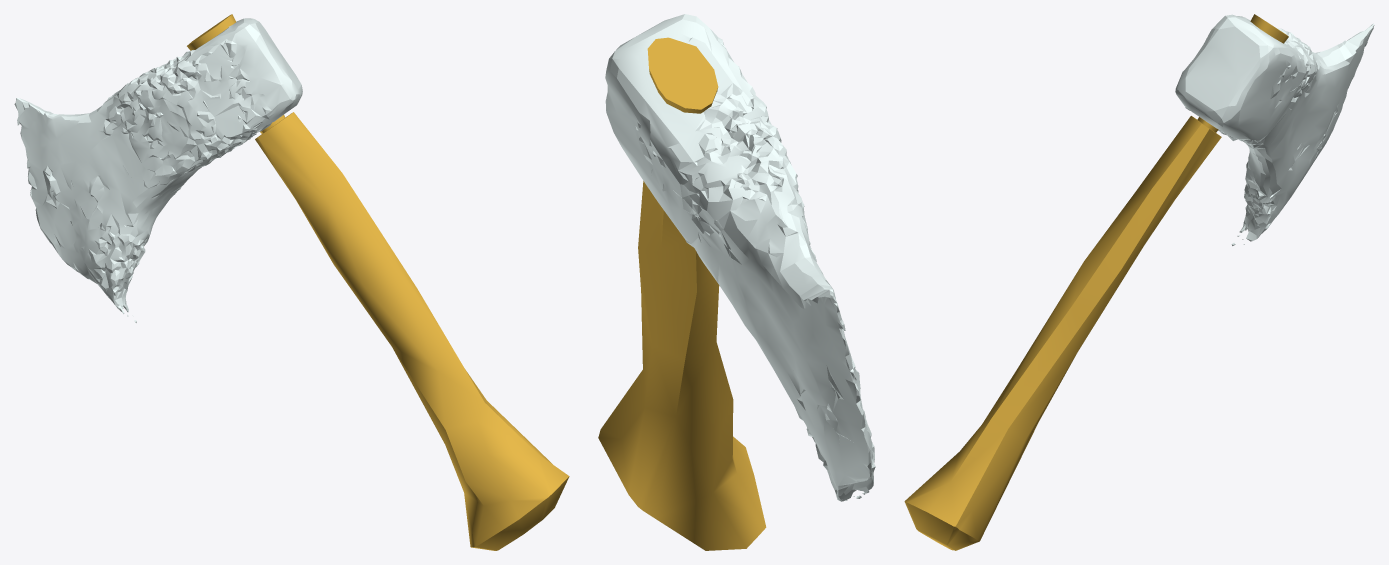
Rendered from axe-iron-92.glb.
3 views of the same model, side by side, from view 1: azimuth 30°, elevation 25°; view 2: azimuth 150°, elevation 25°; view 3: azimuth 270°, elevation 25° (orthographic). The views are drawn at different scales.
Parts seen in each view (by area): view 1: iron-axe-head, iron-axe; view 2: iron-axe-head, iron-axe; view 3: iron-axe, iron-axe-head.
Part boxes in pixels (x1=…): iron-axe-head: x1=14, y1=18, x2=302, y2=322; iron-axe: x1=187, y1=14, x2=569, y2=550; iron-axe-head: x1=605, y1=14, x2=875, y2=501; iron-axe: x1=598, y1=37, x2=766, y2=550; iron-axe: x1=904, y1=14, x2=1288, y2=550; iron-axe-head: x1=1175, y1=14, x2=1374, y2=245.
Bounding box in the file's own units: 0.6933 × 0.8645 × 0.7763.
